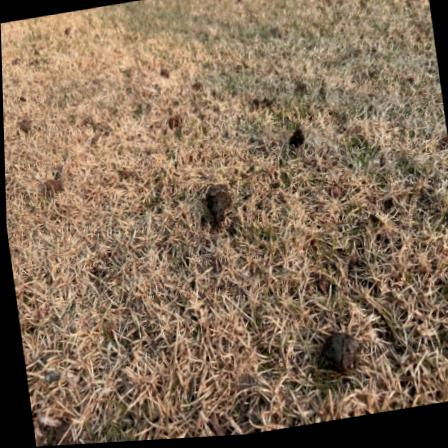dog-poop: (309, 335, 367, 386), (197, 177, 236, 234)
